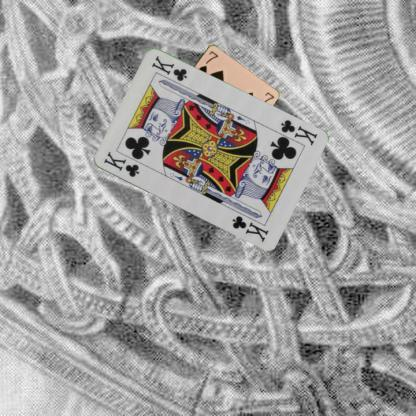7s: (196, 48, 219, 75)
Kc: (278, 116, 318, 146), (101, 148, 140, 178)
